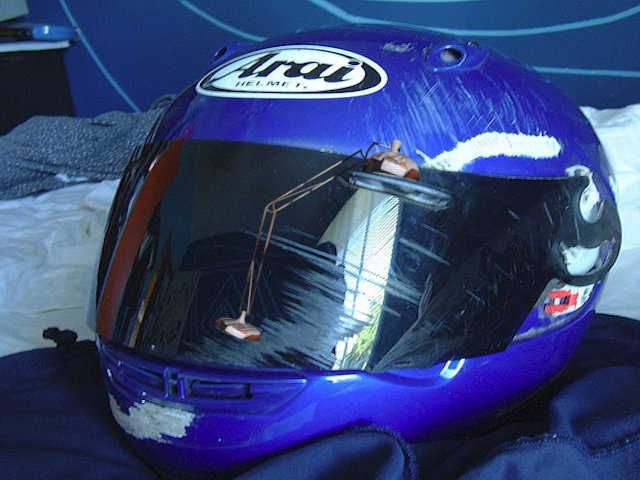desk_lamp: (209, 133, 433, 353)
